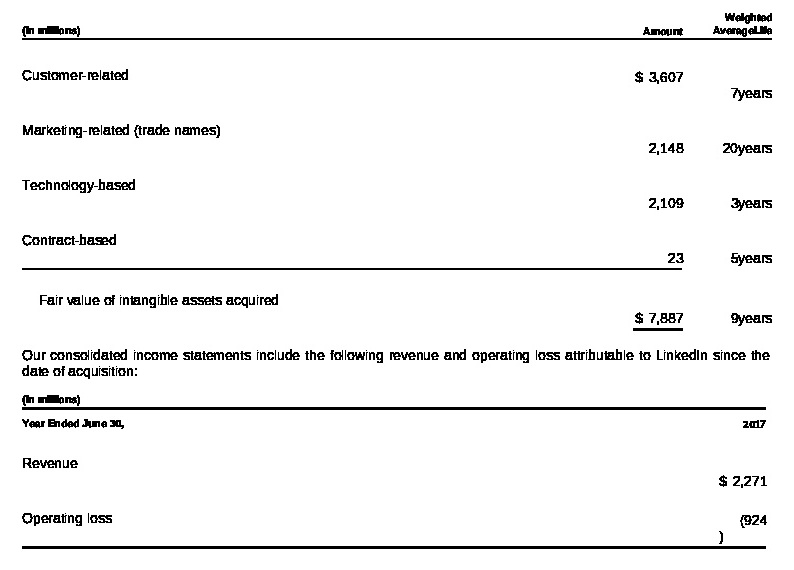table: (0, 0, 794, 570)
